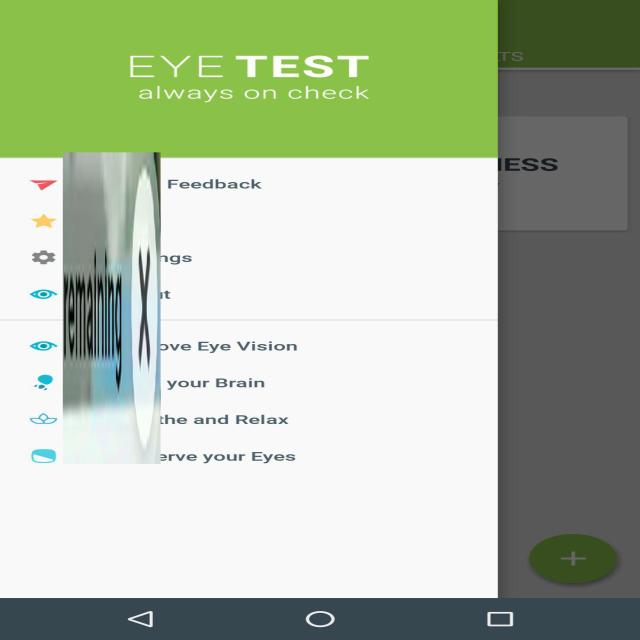misdirection: (62, 152, 160, 464)
